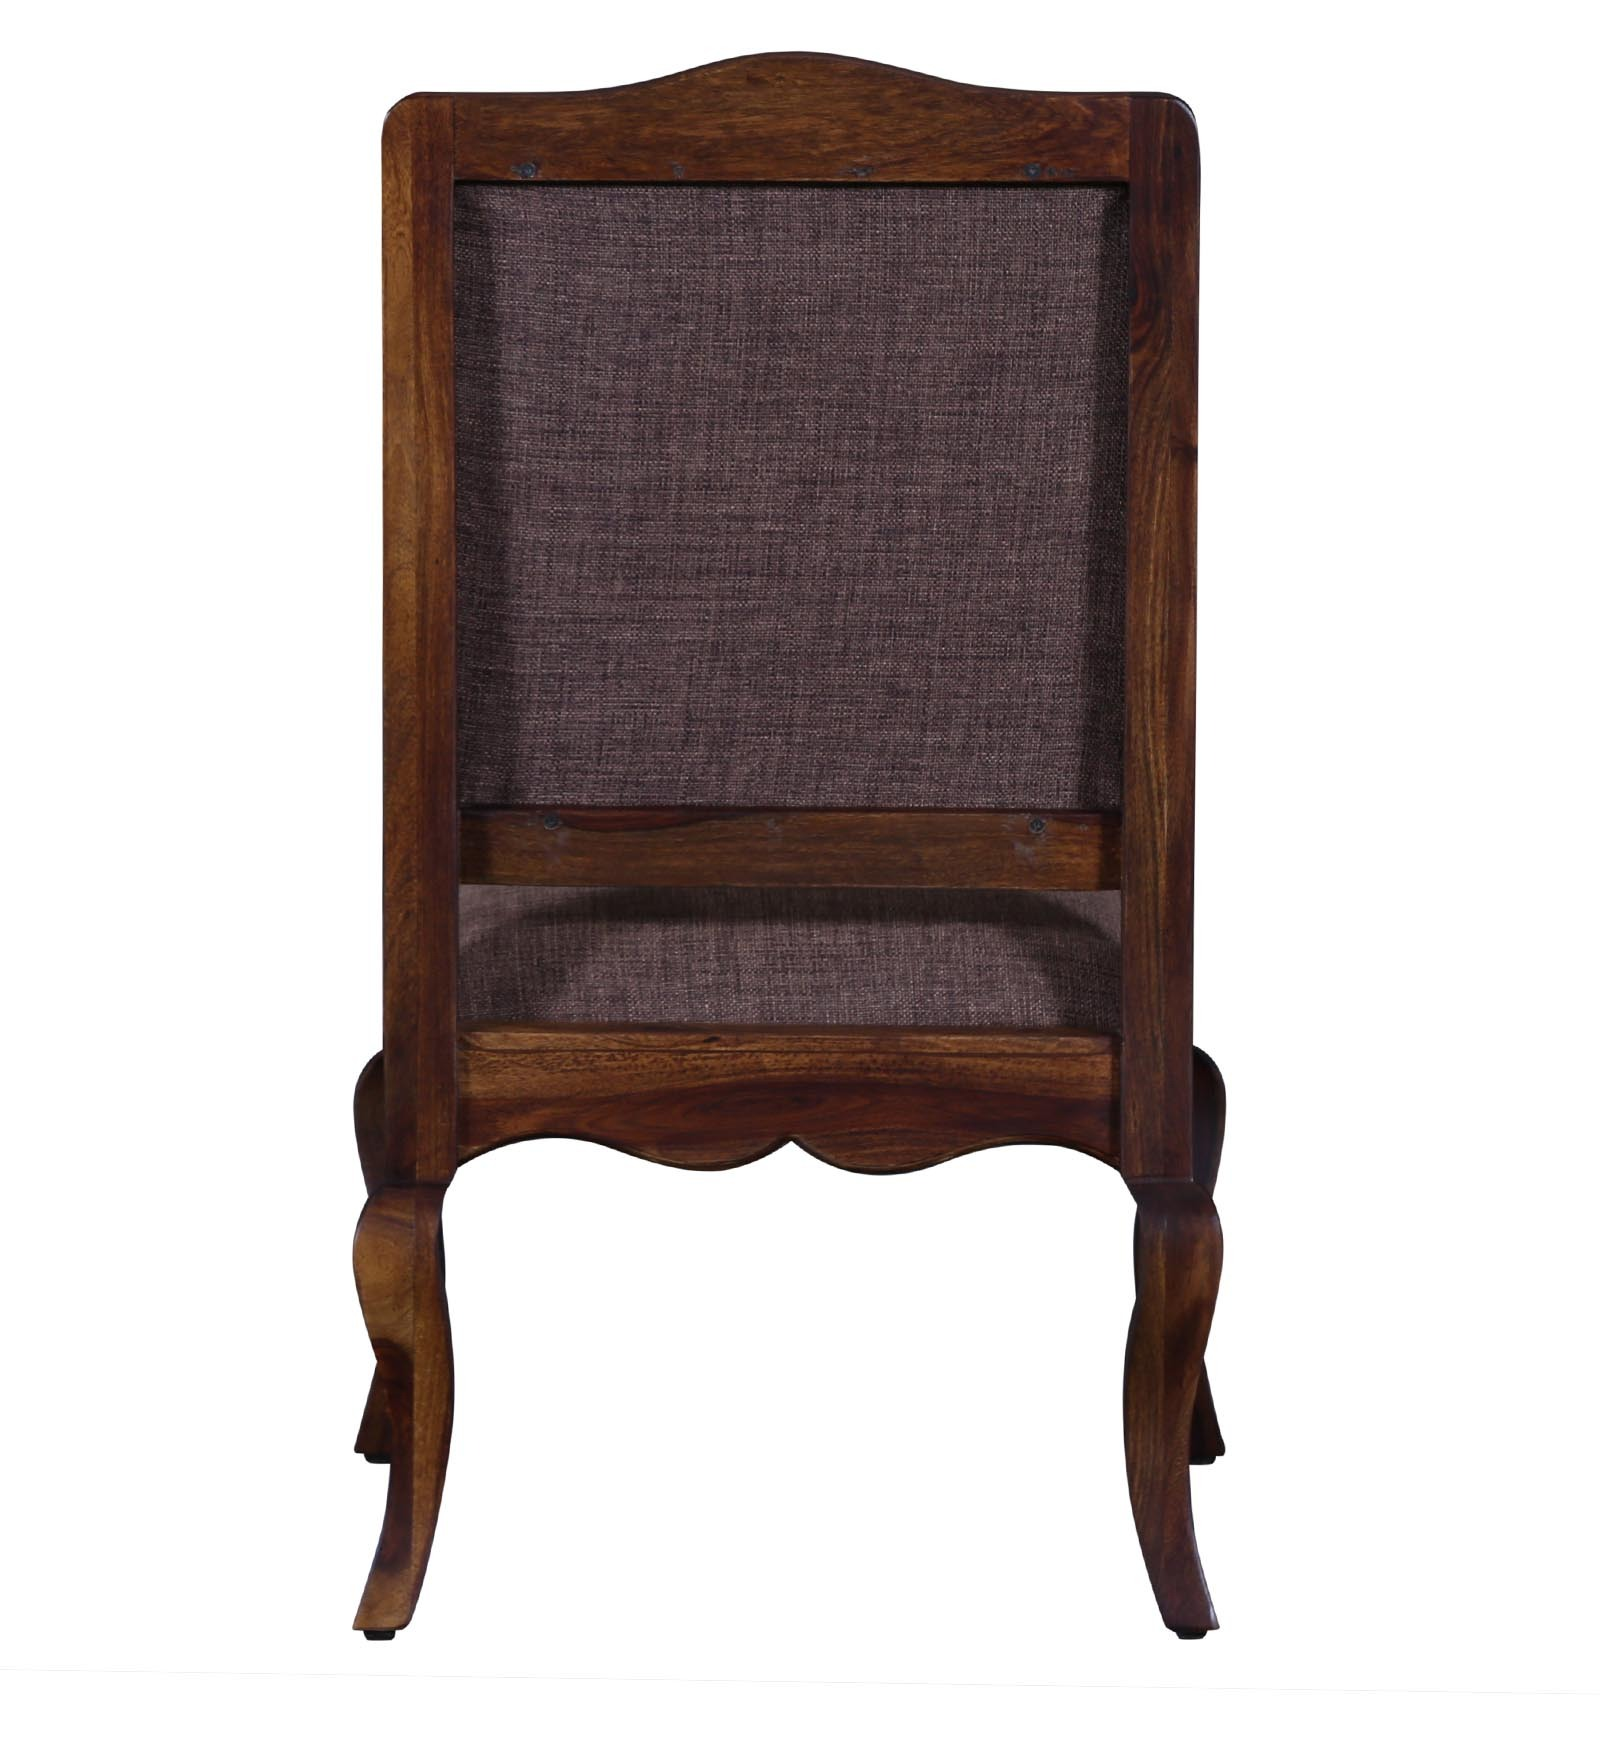Anne Arm Chair in Provincial Teak Finish by Amberville: (314, 48, 1260, 1663)
